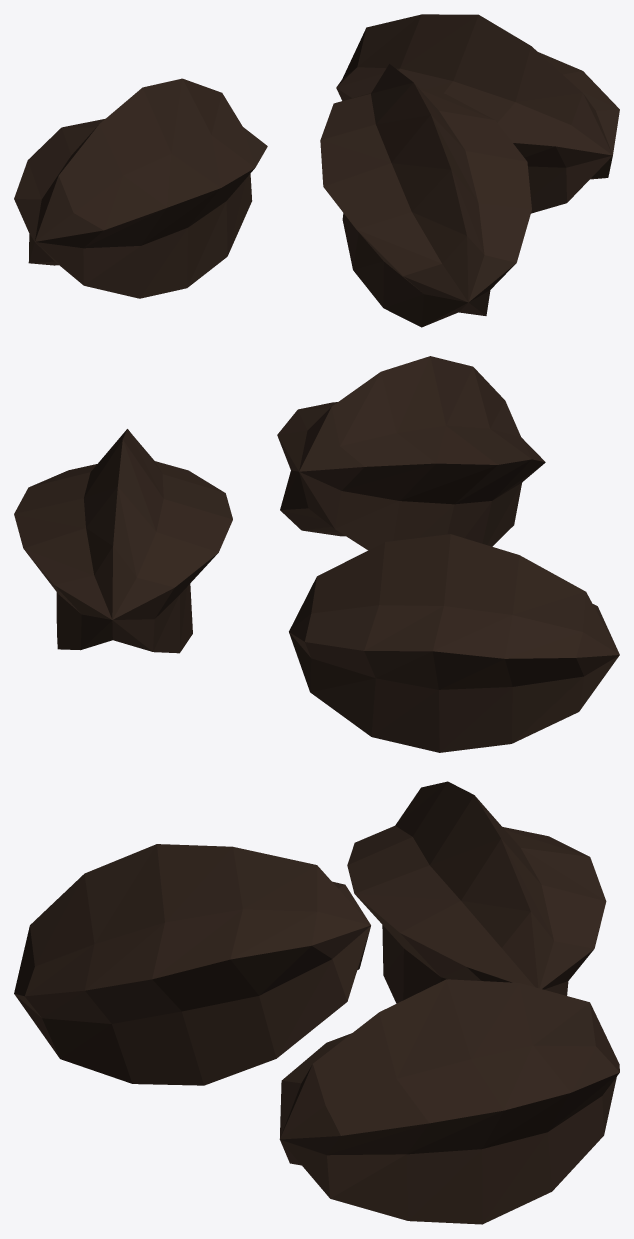
The model's file is raisin.glb.
The picture shows the model from 3 angles, top to bottom: view 1: azimuth 30°, elevation 25°; view 2: azimuth 150°, elevation 25°; view 3: azimuth 270°, elevation 25°; orthographic projection. The views are drawn at different scales.
Bounding box in the file's own units: 2.9 × 1.1 × 2.32.
